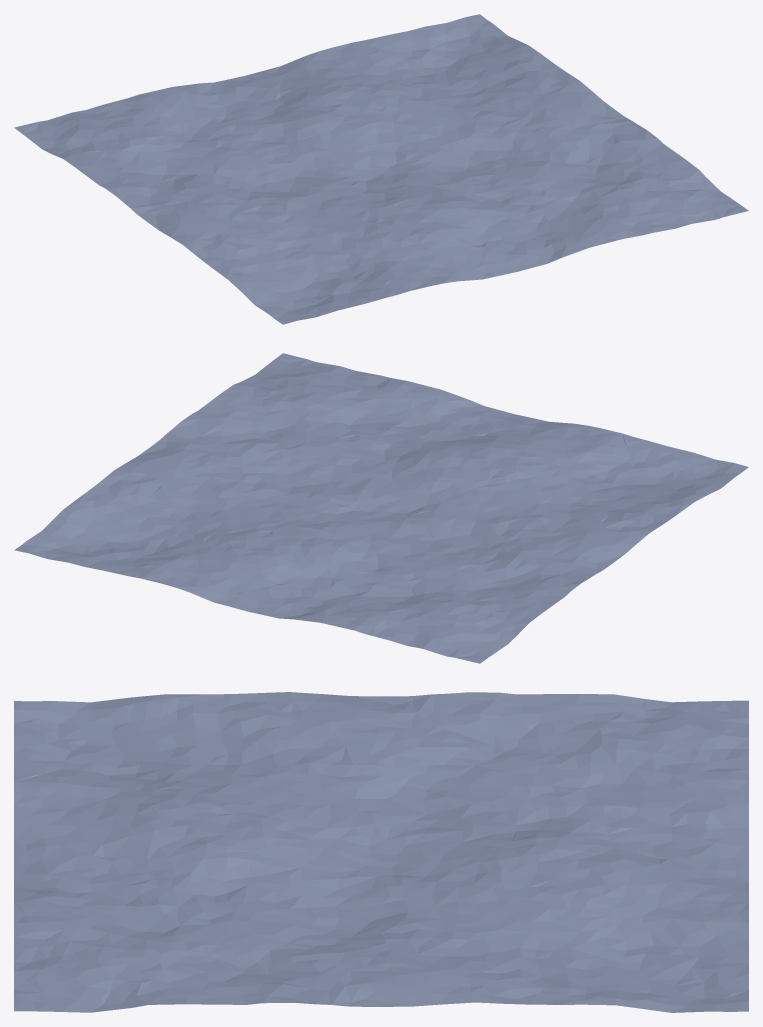
Rendered from waterPlane5.fbx.
3 renders of one model, top to bottom at view 1: azimuth 30°, elevation 25°; view 2: azimuth 150°, elevation 25°; view 3: azimuth 270°, elevation 25°, orthographic. The views are drawn at different scales.
Parts seen in each view (by area): view 1: waterPlane5; view 2: waterPlane5; view 3: waterPlane5.
Boxes of the visible parts, x1=… form: waterPlane5: x1=14, y1=14, x2=748, y2=324; waterPlane5: x1=14, y1=353, x2=748, y2=663; waterPlane5: x1=14, y1=692, x2=748, y2=1012.
Bounding box in the file's own units: 5001 × 126 × 5001.
